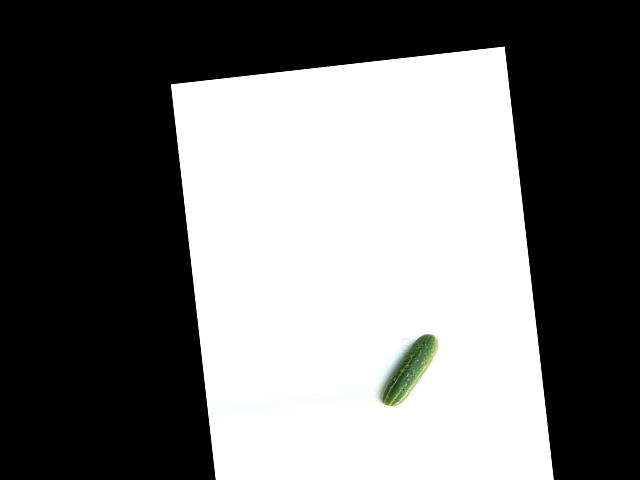cucumber: (374, 333, 445, 408)
